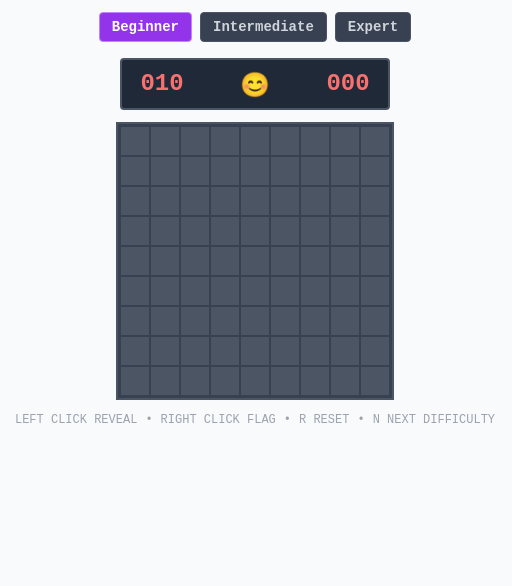
MinesweeperGame › switches difficulty when difficulty button is clicked
The image size is (512, 586).
Click the button "Intermediate" at (263, 27), box [200,12,327,42]
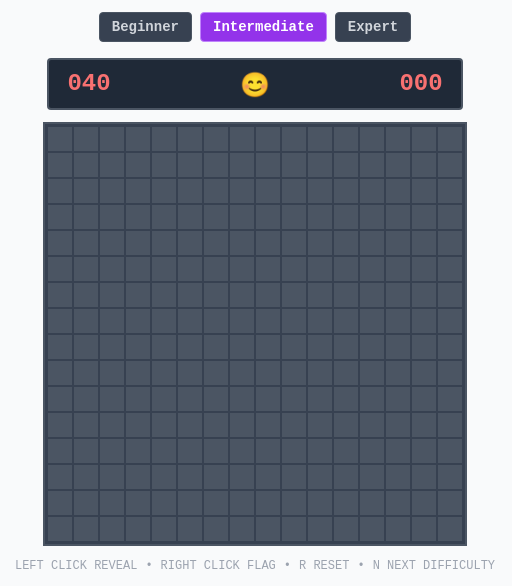
Expected: the number of cells is 256
